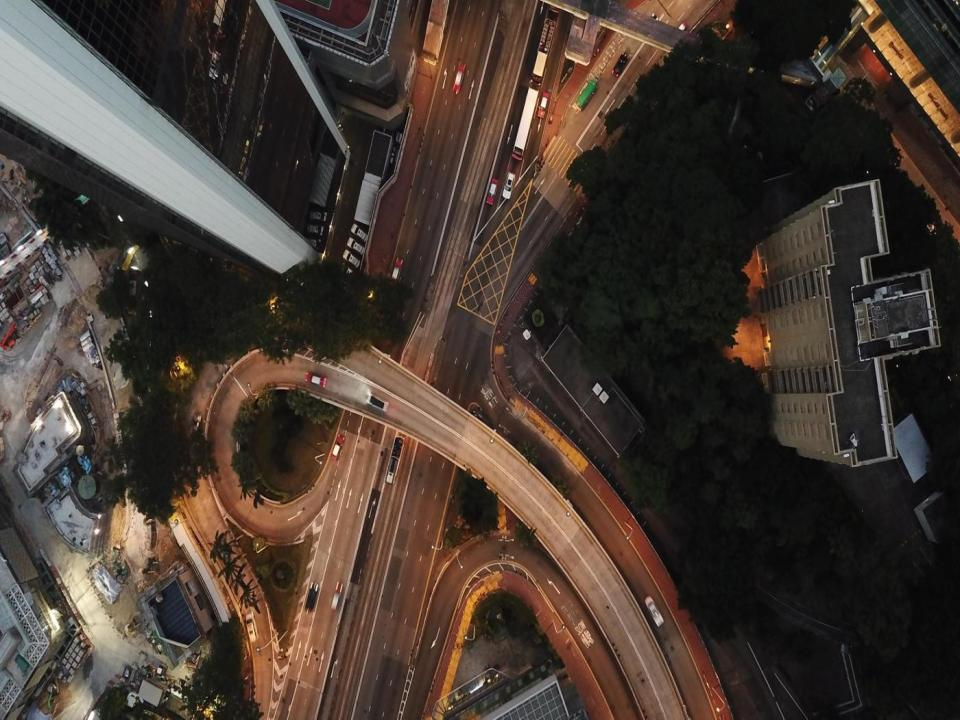bus: (512, 87, 538, 160), (531, 19, 555, 85), (386, 436, 404, 483), (576, 80, 597, 110)
car: (644, 595, 664, 628), (305, 582, 320, 610), (612, 52, 629, 76), (452, 62, 465, 93), (642, 14, 658, 38), (305, 372, 327, 388), (675, 20, 688, 47), (331, 435, 345, 460), (485, 178, 498, 204), (331, 581, 342, 611), (537, 91, 548, 118), (391, 258, 402, 284)
van: (365, 394, 389, 412), (246, 612, 258, 644), (503, 171, 514, 200)
